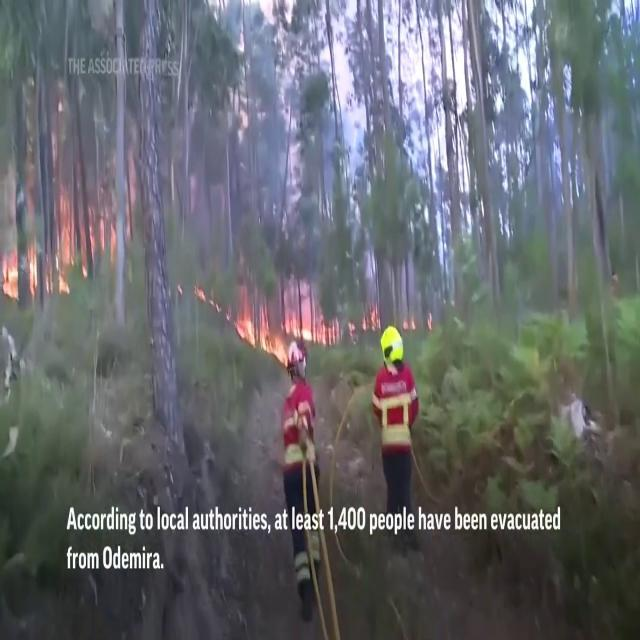Fire: (5, 202, 90, 306), (230, 285, 328, 369)
